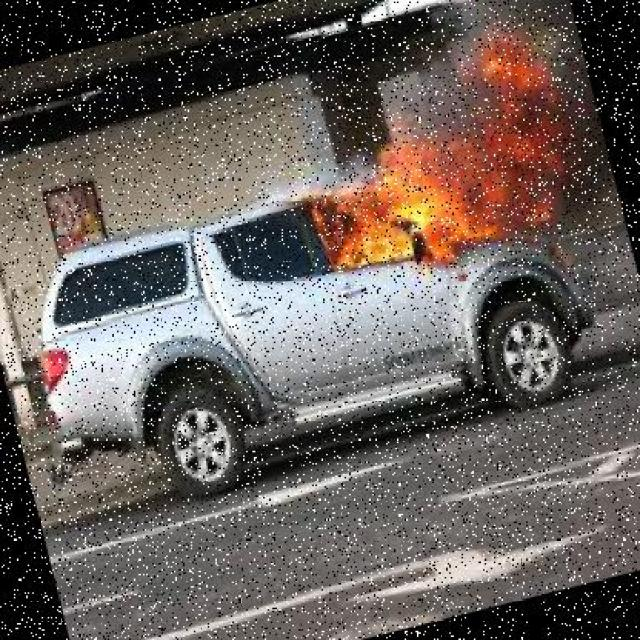fire: (277, 22, 603, 296)
